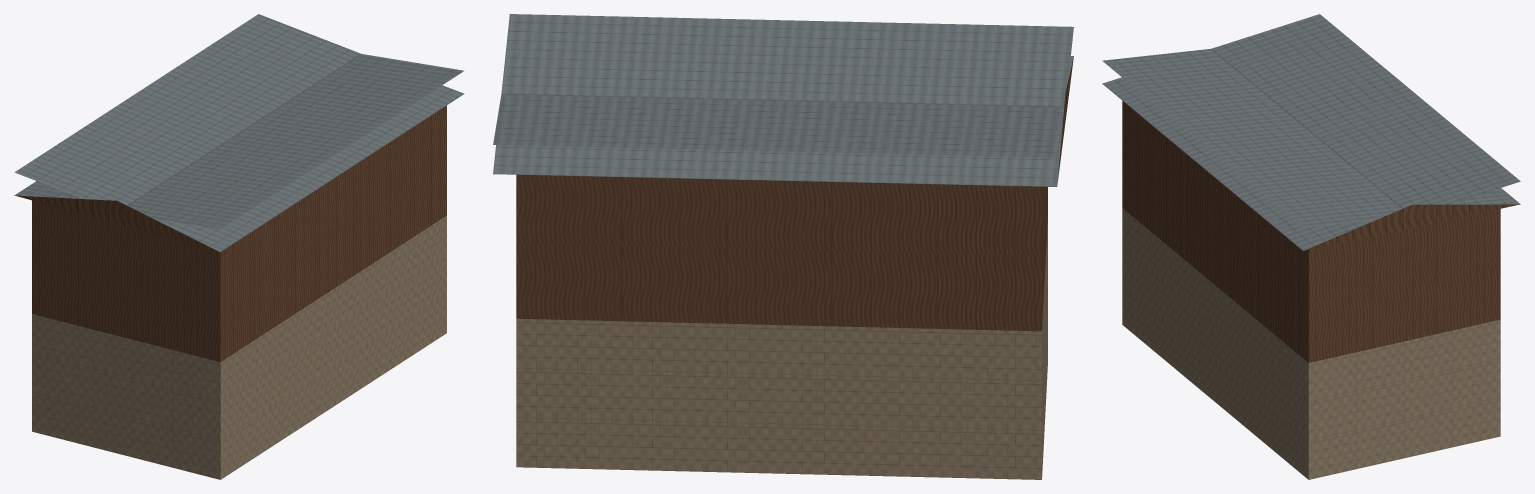
The model's file is bld_c19_31_368.gltf.
3 views of the same model, side by side, from view 1: azimuth 30°, elevation 25°; view 2: azimuth 150°, elevation 25°; view 3: azimuth 270°, elevation 25° (orthographic). The views are drawn at different scales.
Visible parts, largest first — view 1: bld_c19_31_368; view 2: bld_c19_31_368; view 3: bld_c19_31_368.
Part boxes in pixels (x1,y1,x2,y2): bld_c19_31_368: (14,14,464,479); bld_c19_31_368: (493,14,1073,479); bld_c19_31_368: (1102,14,1520,479).
Bounding box in the file's own units: 20.04 × 11.3 × 16.57.
4 materials, 4 textured.
